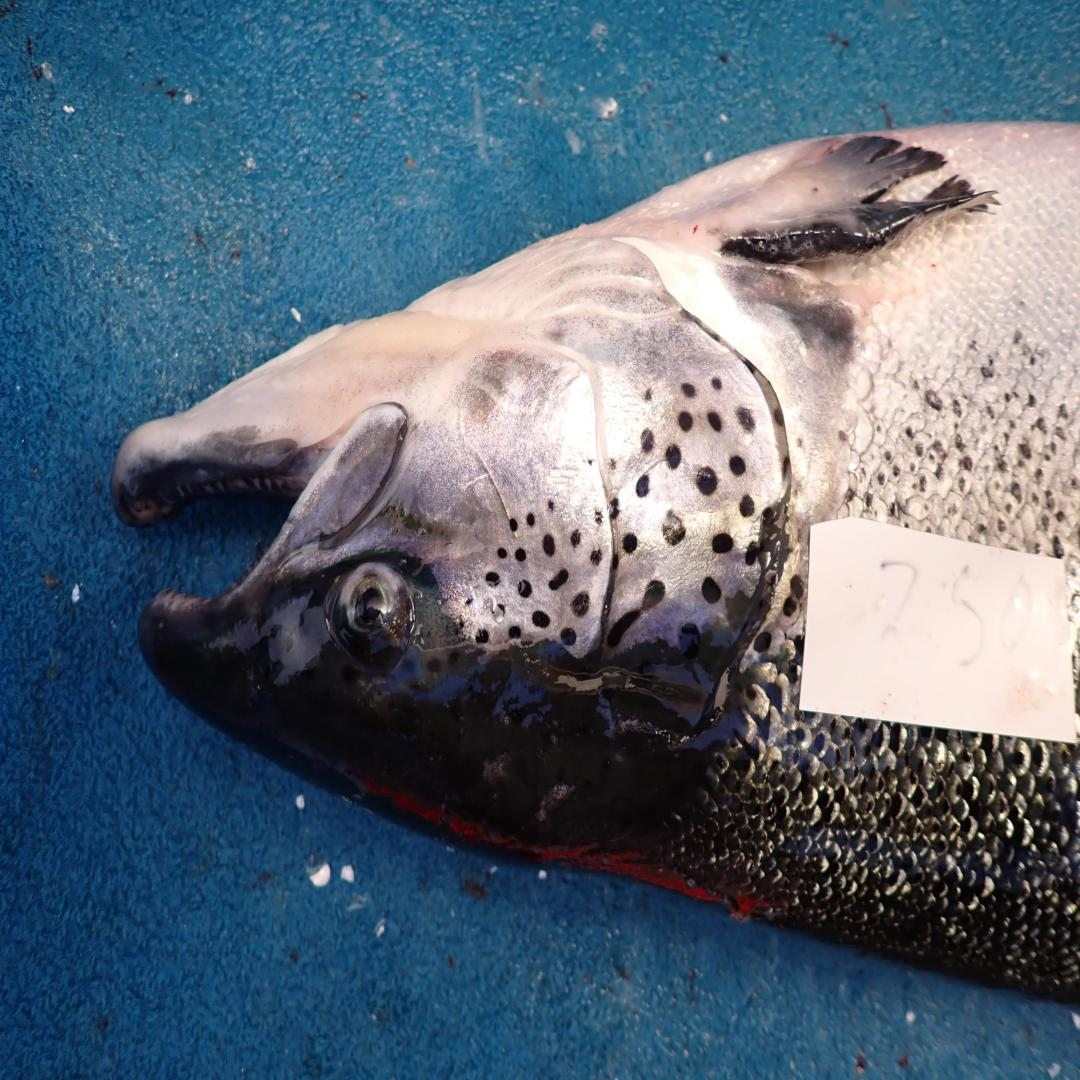spot: (608, 579, 664, 647), (662, 509, 686, 546), (679, 622, 700, 658), (696, 467, 717, 495), (702, 577, 721, 605), (711, 532, 734, 554), (548, 568, 570, 591), (737, 406, 755, 432), (745, 537, 761, 565), (664, 444, 681, 470), (572, 591, 589, 616), (738, 495, 755, 518), (635, 475, 650, 498), (730, 456, 747, 475), (532, 610, 551, 627), (622, 534, 637, 554), (561, 627, 576, 647), (641, 430, 654, 453), (542, 534, 555, 557), (707, 411, 721, 430), (491, 605, 506, 622), (679, 411, 692, 430), (681, 382, 696, 397), (519, 579, 532, 596), (610, 498, 620, 520), (485, 571, 500, 585), (763, 507, 774, 525), (773, 407, 783, 426), (508, 624, 521, 638), (591, 548, 601, 565), (593, 509, 603, 526), (477, 630, 489, 644), (611, 554, 620, 572), (508, 518, 519, 532), (525, 512, 536, 526), (572, 529, 580, 548), (782, 457, 789, 478), (515, 548, 525, 562), (711, 377, 721, 391), (643, 389, 652, 401), (498, 548, 506, 560), (465, 594, 473, 606), (548, 499, 554, 510), (610, 459, 616, 470), (459, 620, 464, 629), (589, 459, 592, 466)
